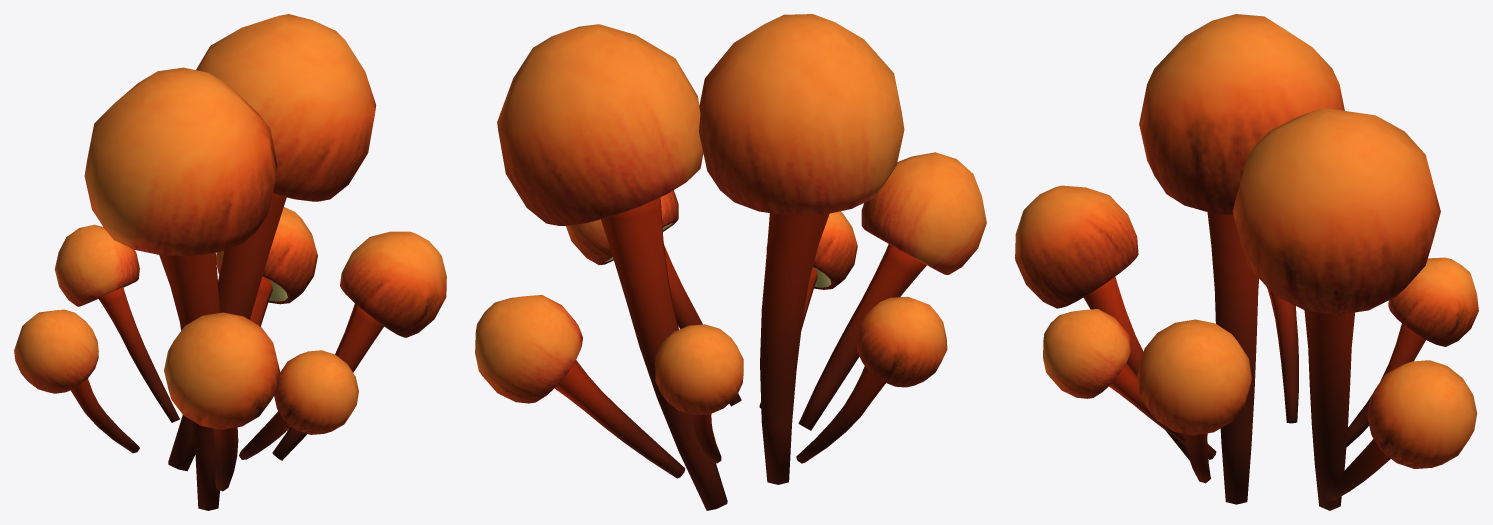
Rendered from Cartoon Seaweed_13-1-14.fbx.
3 views of the same model, side by side, from view 1: azimuth 30°, elevation 25°; view 2: azimuth 150°, elevation 25°; view 3: azimuth 270°, elevation 25° (orthographic). The views are drawn at different scales.
Visible parts, largest first — view 1: Cartoon Seaweed_13.1.14; view 2: Cartoon Seaweed_13.1.14; view 3: Cartoon Seaweed_13.1.14.
Boxes of the visible parts, bbox=[...] form: Cartoon Seaweed_13.1.14: bbox=[14, 14, 446, 510]; Cartoon Seaweed_13.1.14: bbox=[475, 14, 986, 510]; Cartoon Seaweed_13.1.14: bbox=[1015, 14, 1478, 510].
Size of the model in its own units: 27.53 by 29.87 by 27.06.
Materials: 1 (1 with a texture image).
